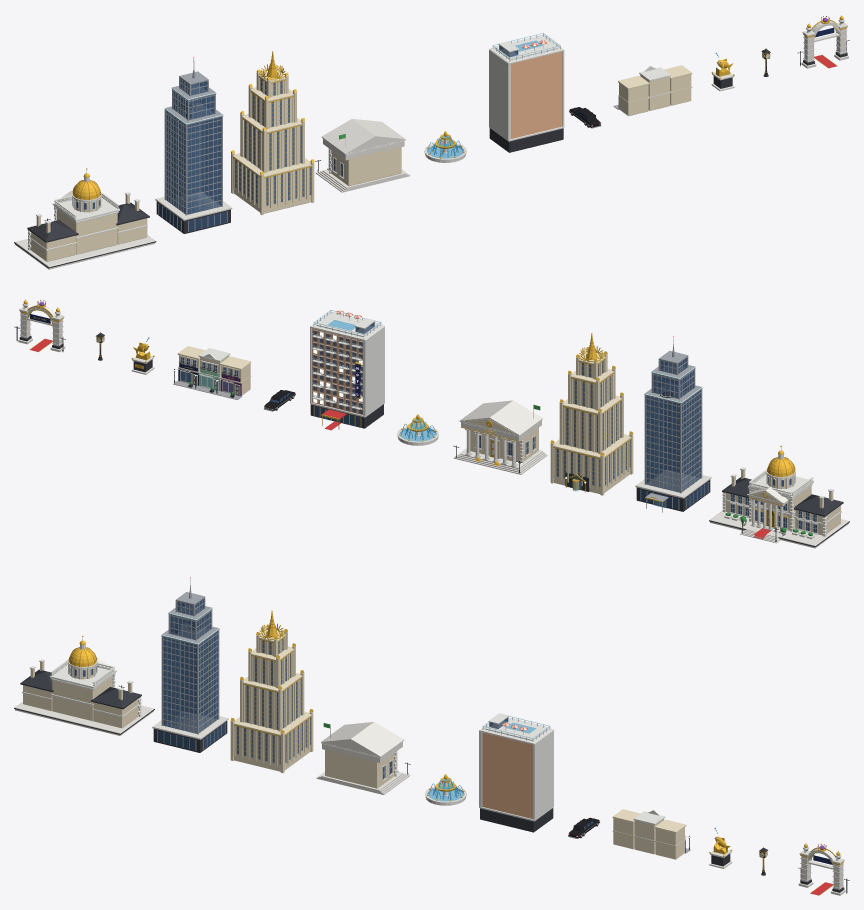
The model's file is RichCity.fbx.
3 renders of one model, top to bottom at view 1: azimuth 30°, elevation 25°; view 2: azimuth 150°, elevation 25°; view 3: azimuth 330°, elevation 25°, orthographic.
Parts seen in each view (by area): view 1: ArtDecoTower_Cream, GlassTower_GlassDark, GlassTower_Metal, Hotel_Peach, Hotel_White, Mansion_Cream, Bank_Marble, BoutiqueRow_Cream, ArtDecoTower_GlassDark, Bank_Cream, Mansion, Mansion_MarbleDark (+9 smaller); view 2: ArtDecoTower_Cream, GlassTower_GlassDark, GlassTower_Metal, Hotel_White, Bank_Marble, Hotel_Peach, Mansion_Marble, Mansion, ArtDecoTower_GlassDark, Hotel_GlassDark, Mansion_Cream, BoutiqueRow_Cream (+14 smaller); view 3: ArtDecoTower_Cream, GlassTower_GlassDark, GlassTower_Metal, Hotel_Peach, Hotel_White, Mansion_Cream, Bank_Marble, BoutiqueRow_Cream, ArtDecoTower_GlassDark, Bank_Cream, Mansion, Mansion_MarbleDark (+6 smaller).
Boxes of the visible parts, x1=… form: ArtDecoTower_Cream: x1=231, y1=68, x2=314, y2=214; GlassTower_GlassDark: x1=159, y1=78, x2=226, y2=231; GlassTower_Metal: x1=158, y1=58, x2=227, y2=231; Hotel_Peach: x1=511, y1=51, x2=562, y2=138; Hotel_White: x1=489, y1=33, x2=564, y2=141; Mansion_Cream: x1=30, y1=195, x2=147, y2=261; Bank_Marble: x1=315, y1=119, x2=410, y2=192; BoutiqueRow_Cream: x1=618, y1=65, x2=692, y2=116; ArtDecoTower_GlassDark: x1=235, y1=79, x2=311, y2=205; Bank_Cream: x1=331, y1=147, x2=401, y2=186; Mansion: x1=28, y1=177, x2=147, y2=250; Mansion_MarbleDark: x1=14, y1=202, x2=156, y2=268; ArtDecoTower_Cream: x1=550, y1=350, x2=633, y2=495; GlassTower_GlassDark: x1=641, y1=358, x2=707, y2=509; GlassTower_Metal: x1=640, y1=337, x2=708, y2=512; Hotel_White: x1=310, y1=310, x2=384, y2=417; Bank_Marble: x1=453, y1=400, x2=547, y2=474; Hotel_Peach: x1=312, y1=328, x2=362, y2=414; Mansion_Marble: x1=710, y1=486, x2=848, y2=548; Mansion: x1=722, y1=454, x2=841, y2=536; ArtDecoTower_GlassDark: x1=556, y1=361, x2=630, y2=486; Hotel_GlassDark: x1=313, y1=322, x2=374, y2=427; Mansion_Cream: x1=725, y1=470, x2=840, y2=535; BoutiqueRow_Cream: x1=177, y1=346, x2=251, y2=396; ArtDecoTower_Cream: x1=230, y1=627, x2=313, y2=773; GlassTower_GlassDark: x1=158, y1=599, x2=224, y2=750; GlassTower_Metal: x1=157, y1=578, x2=225, y2=750; Hotel_Peach: x1=482, y1=732, x2=532, y2=818; Hotel_White: x1=479, y1=713, x2=553, y2=821; Mansion_Cream: x1=23, y1=662, x2=138, y2=728; Bank_Marble: x1=316, y1=722, x2=410, y2=794; BoutiqueRow_Cream: x1=612, y1=809, x2=686, y2=859; ArtDecoTower_GlassDark: x1=237, y1=638, x2=310, y2=764; Bank_Cream: x1=325, y1=749, x2=394, y2=788; Mansion: x1=22, y1=644, x2=141, y2=717; Mansion_MarbleDark: x1=14, y1=669, x2=154, y2=734.
Bounding box in the file's own units: 555 × 105 × 45.5.
